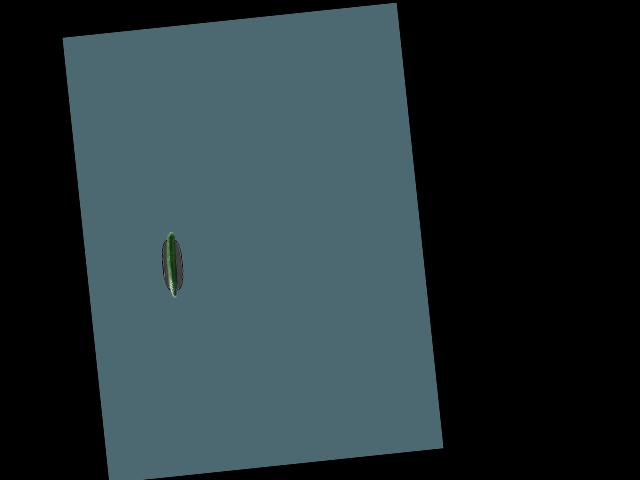cucumber: (164, 231, 181, 298)
